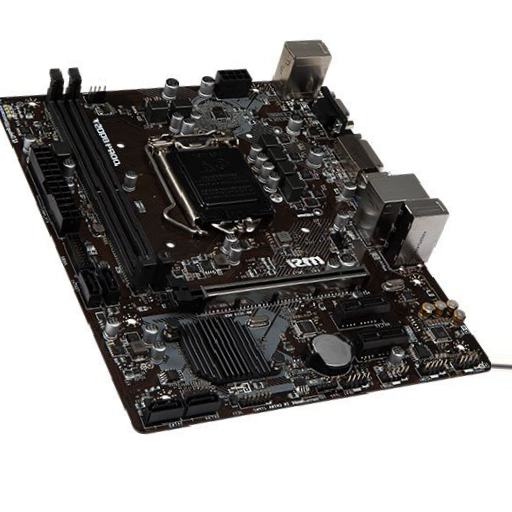CPU: (150, 132, 270, 234)
GPU: (169, 264, 370, 312)
MOTHERBOARD: (7, 75, 496, 433)
RAM: (49, 66, 171, 292)
